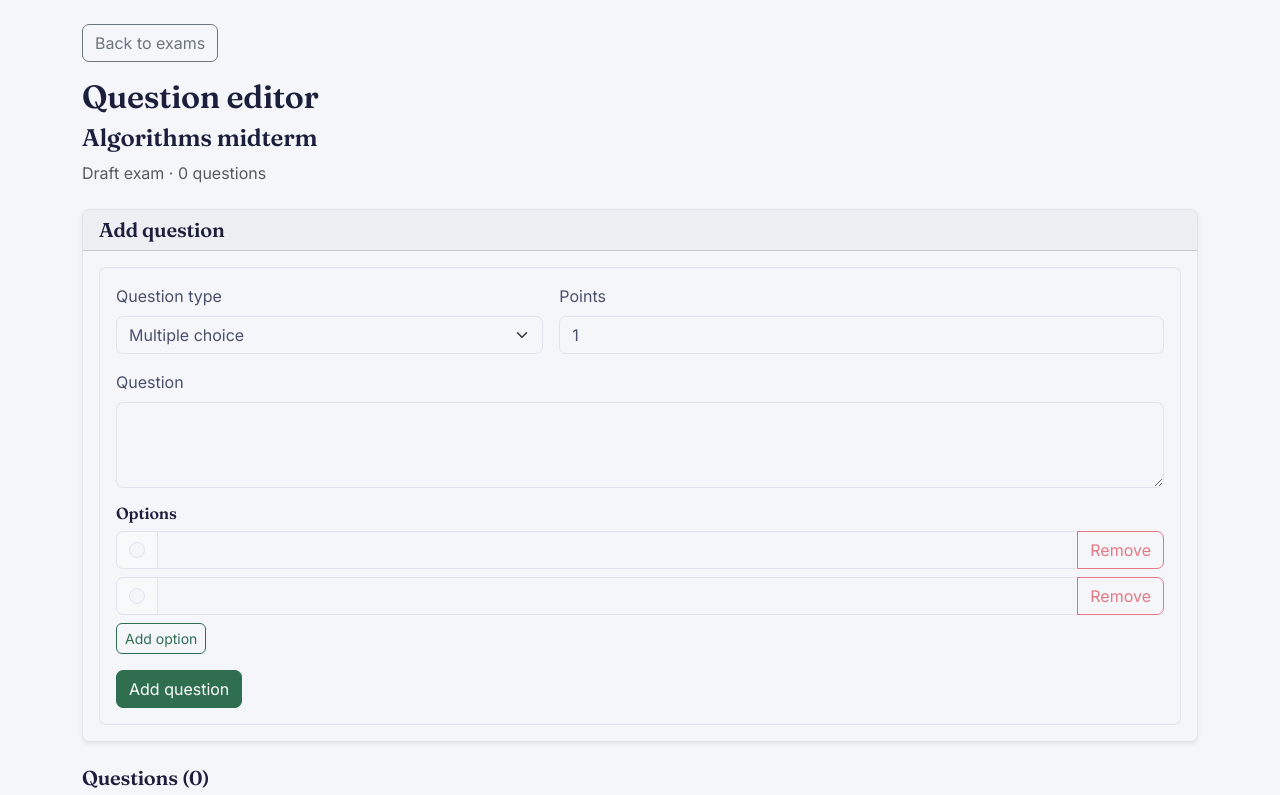
question creation and updates › shows a published-exam conflict safely and preserves the create form
The width and height of the screenshot is (1280, 795).
Expected: the heading "Add question" is shown, top-left (99, 217), bottom-right (224, 242)
Select "True / false" in the dropdown labelled "Question type" at [330, 335], box top-left (116, 316), bottom-right (543, 354)
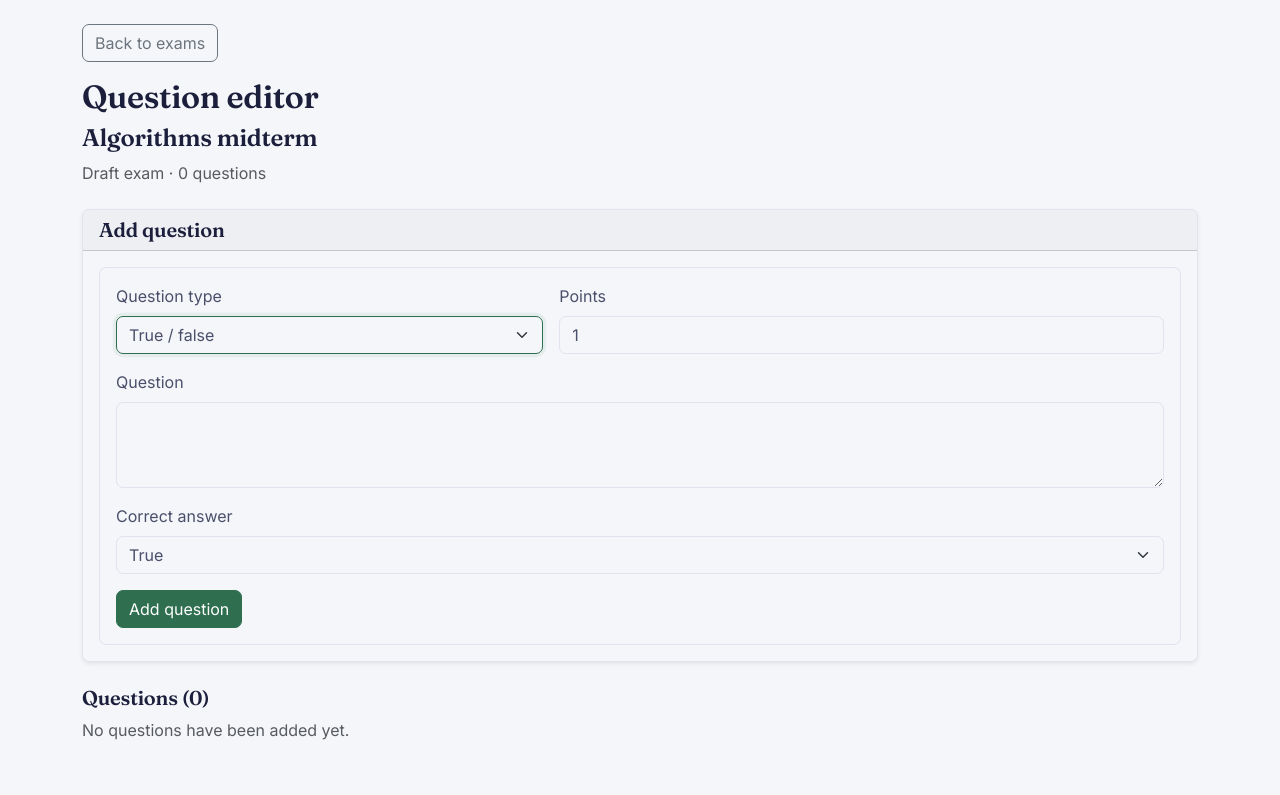
Type "Still a draft?" into the text box labelled "Question" at [640, 445], box top-left (116, 402), bottom-right (1164, 488)
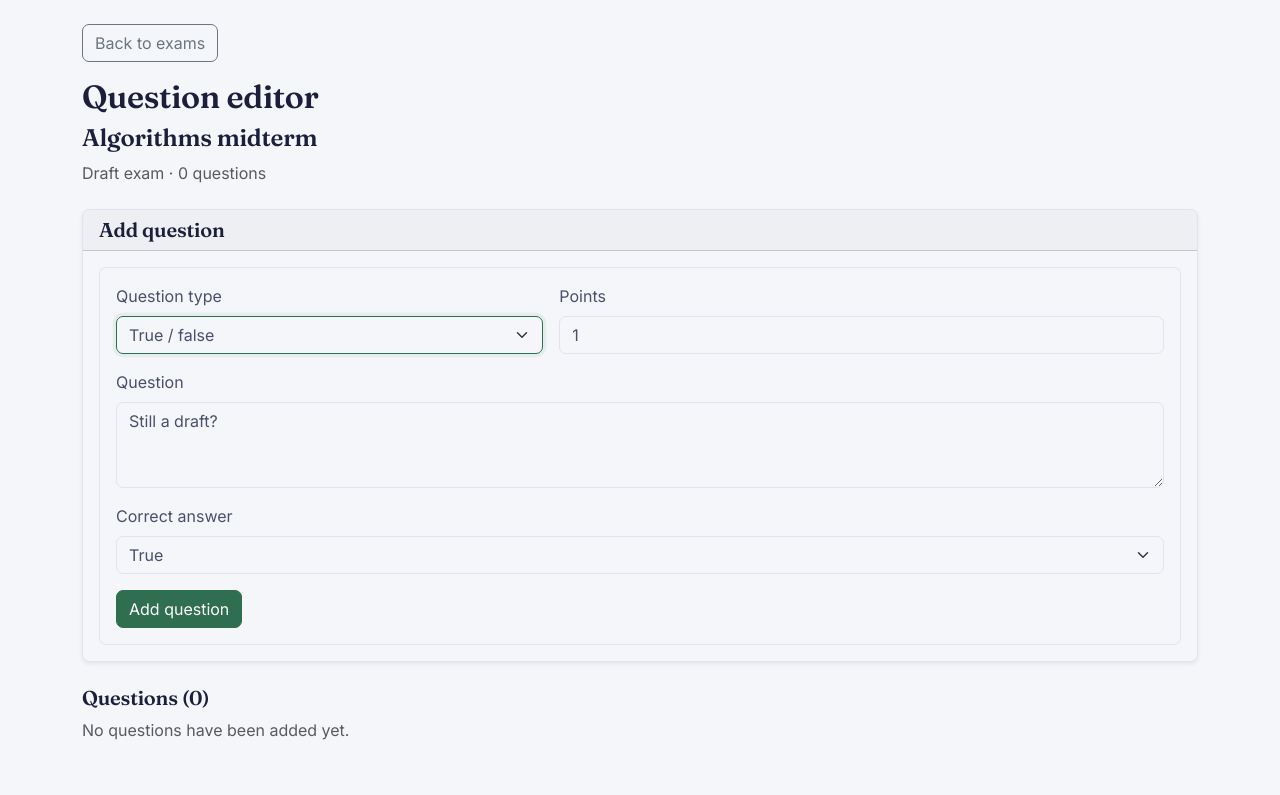
Click the button "Add question" at [179, 609], box top-left (116, 590), bottom-right (242, 628)
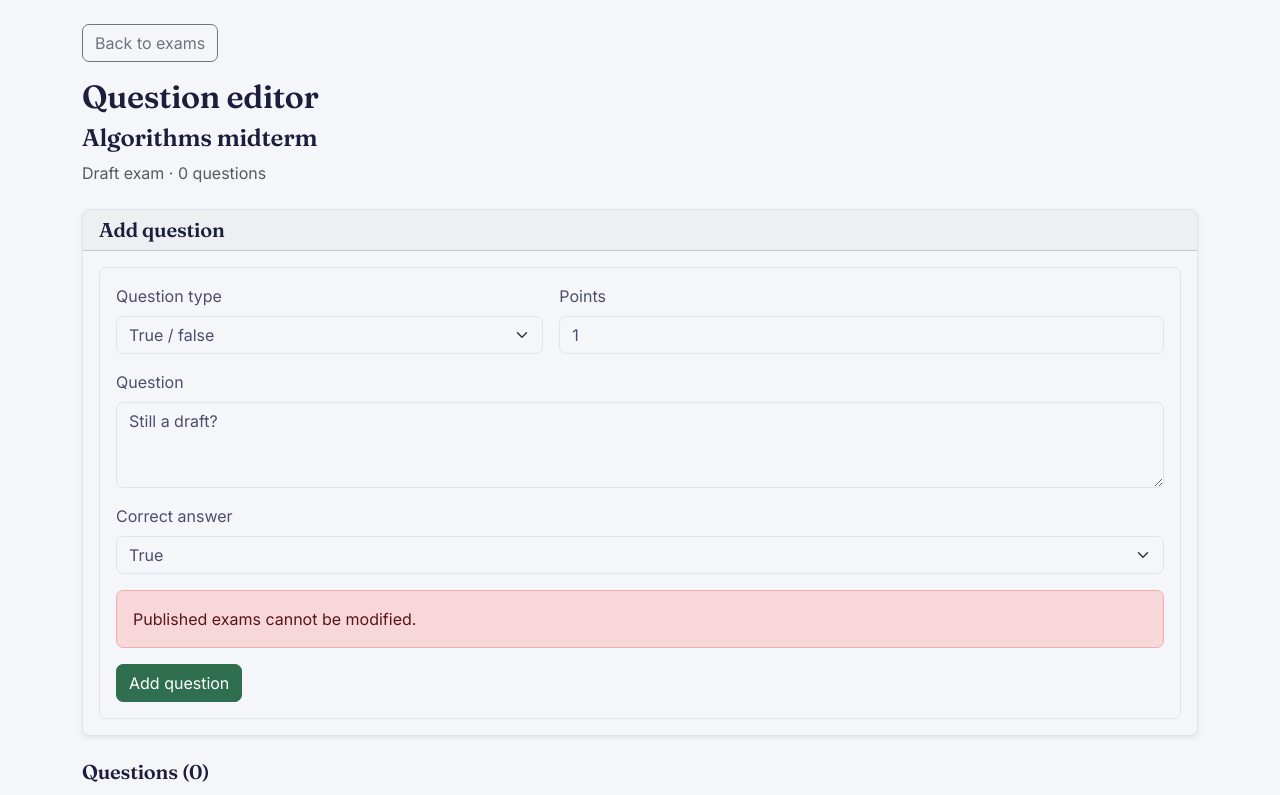
Expected: the heading "Questions (0)" is shown, top-left (82, 759), bottom-right (209, 784)
Expected: the message reads "Published exams cannot be modified.", top-left (133, 609), bottom-right (416, 629)
